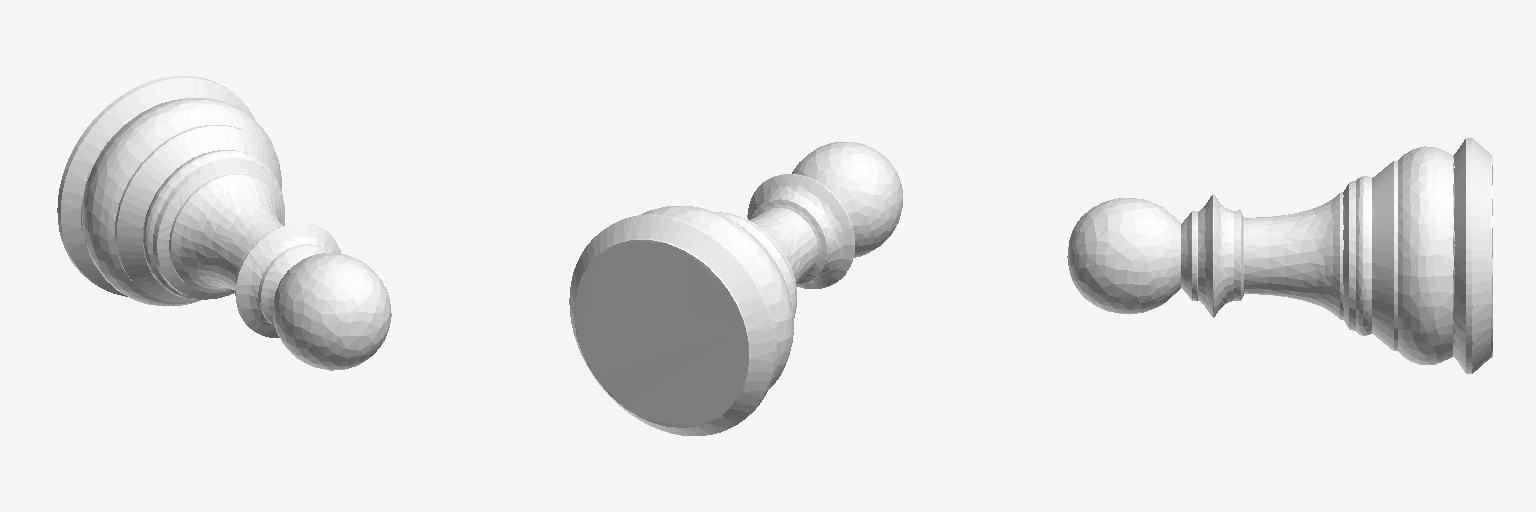
File: Pawn.obj
3 renders of one model, left to right at view 1: azimuth 30°, elevation 25°; view 2: azimuth 150°, elevation 25°; view 3: azimuth 270°, elevation 25°, orthographic.
Parts seen in each view (by area): view 1: 12931_WoodenChessPawnSideA_v1_l3.002; view 2: 12931_WoodenChessPawnSideA_v1_l3.002; view 3: 12931_WoodenChessPawnSideA_v1_l3.002.
Part boxes in pixels (left/top/right/bottom): 12931_WoodenChessPawnSideA_v1_l3.002: left=57, top=76, right=391, bottom=370; 12931_WoodenChessPawnSideA_v1_l3.002: left=569, top=142, right=902, bottom=435; 12931_WoodenChessPawnSideA_v1_l3.002: left=1067, top=138, right=1492, bottom=373.
Bounding box in the file's own units: 0.8925 × 0.8925 × 1.61.